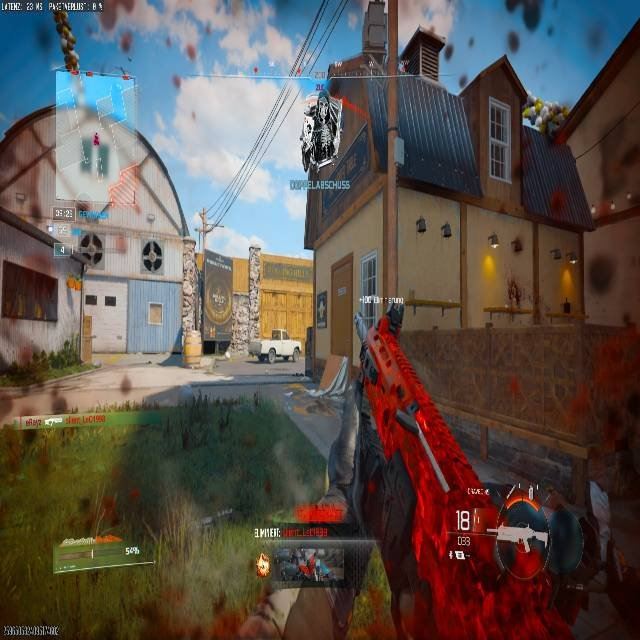player: (69, 232, 102, 277)
